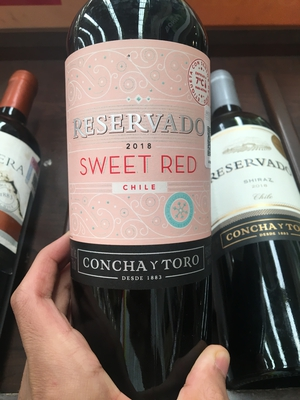reservado sweet red: (59, 9, 212, 400)
